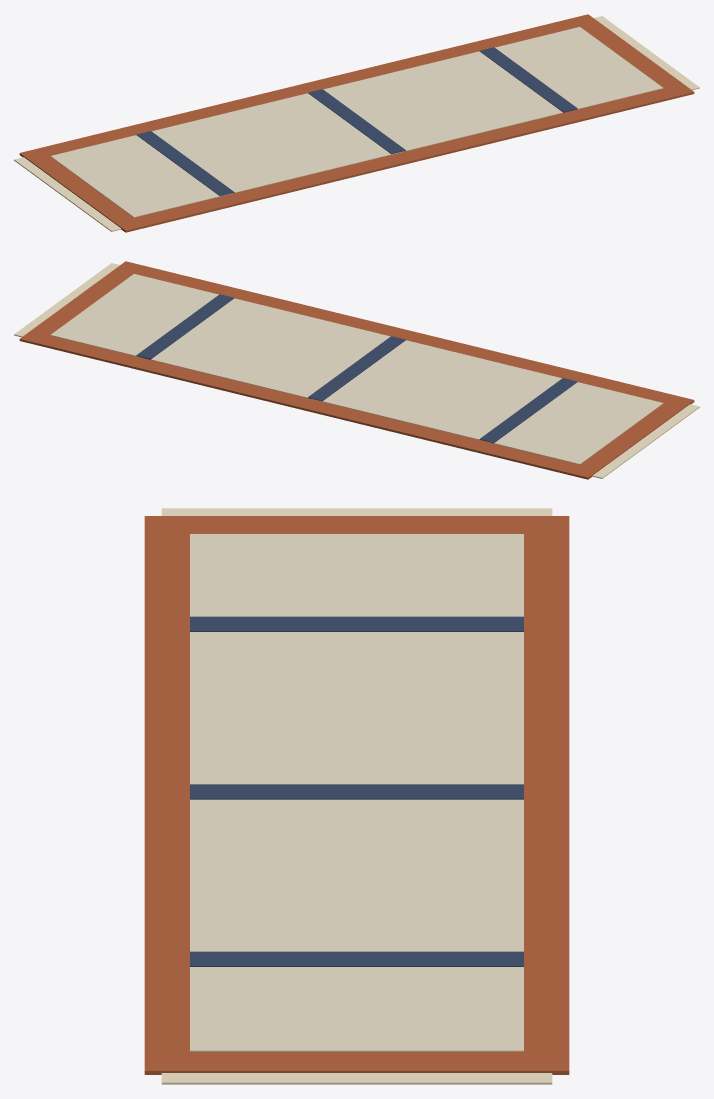
3 views of the same model, one above another, from view 1: azimuth 30°, elevation 25°; view 2: azimuth 150°, elevation 25°; view 3: azimuth 270°, elevation 25° (orthographic). The views are drawn at different scales.
Parts seen in each view (by area): view 1: field, border, stripe-1, fringe-left; view 2: field, border, stripe-1, fringe-left; view 3: field, border, stripe-1, fringe-left.
Boxes of the visible parts, x1,y1,x2,y2 form: field: (50,27,663,217); border: (19,14,694,232); stripe-1: (136,47,577,196); fringe-left: (14,16,699,231); field: (50,274,663,464); border: (19,261,694,479); stripe-1: (136,294,577,443); fringe-left: (14,263,699,478); field: (190,534,523,1051); border: (144,516,569,1074); stripe-1: (190,616,523,966); fringe-left: (161,508,552,1084).
Bounding box in the file's own units: 2.4 × 0.012 × 0.75.
